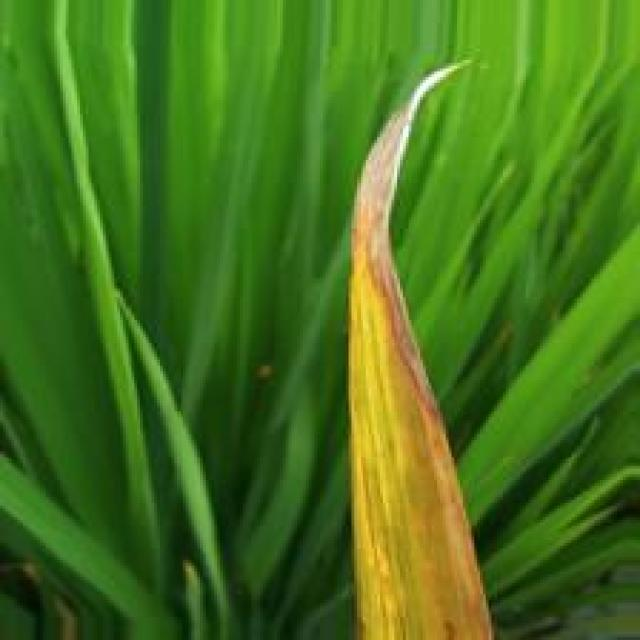Rice False Smut: (387, 351, 492, 640), (360, 139, 437, 429)
